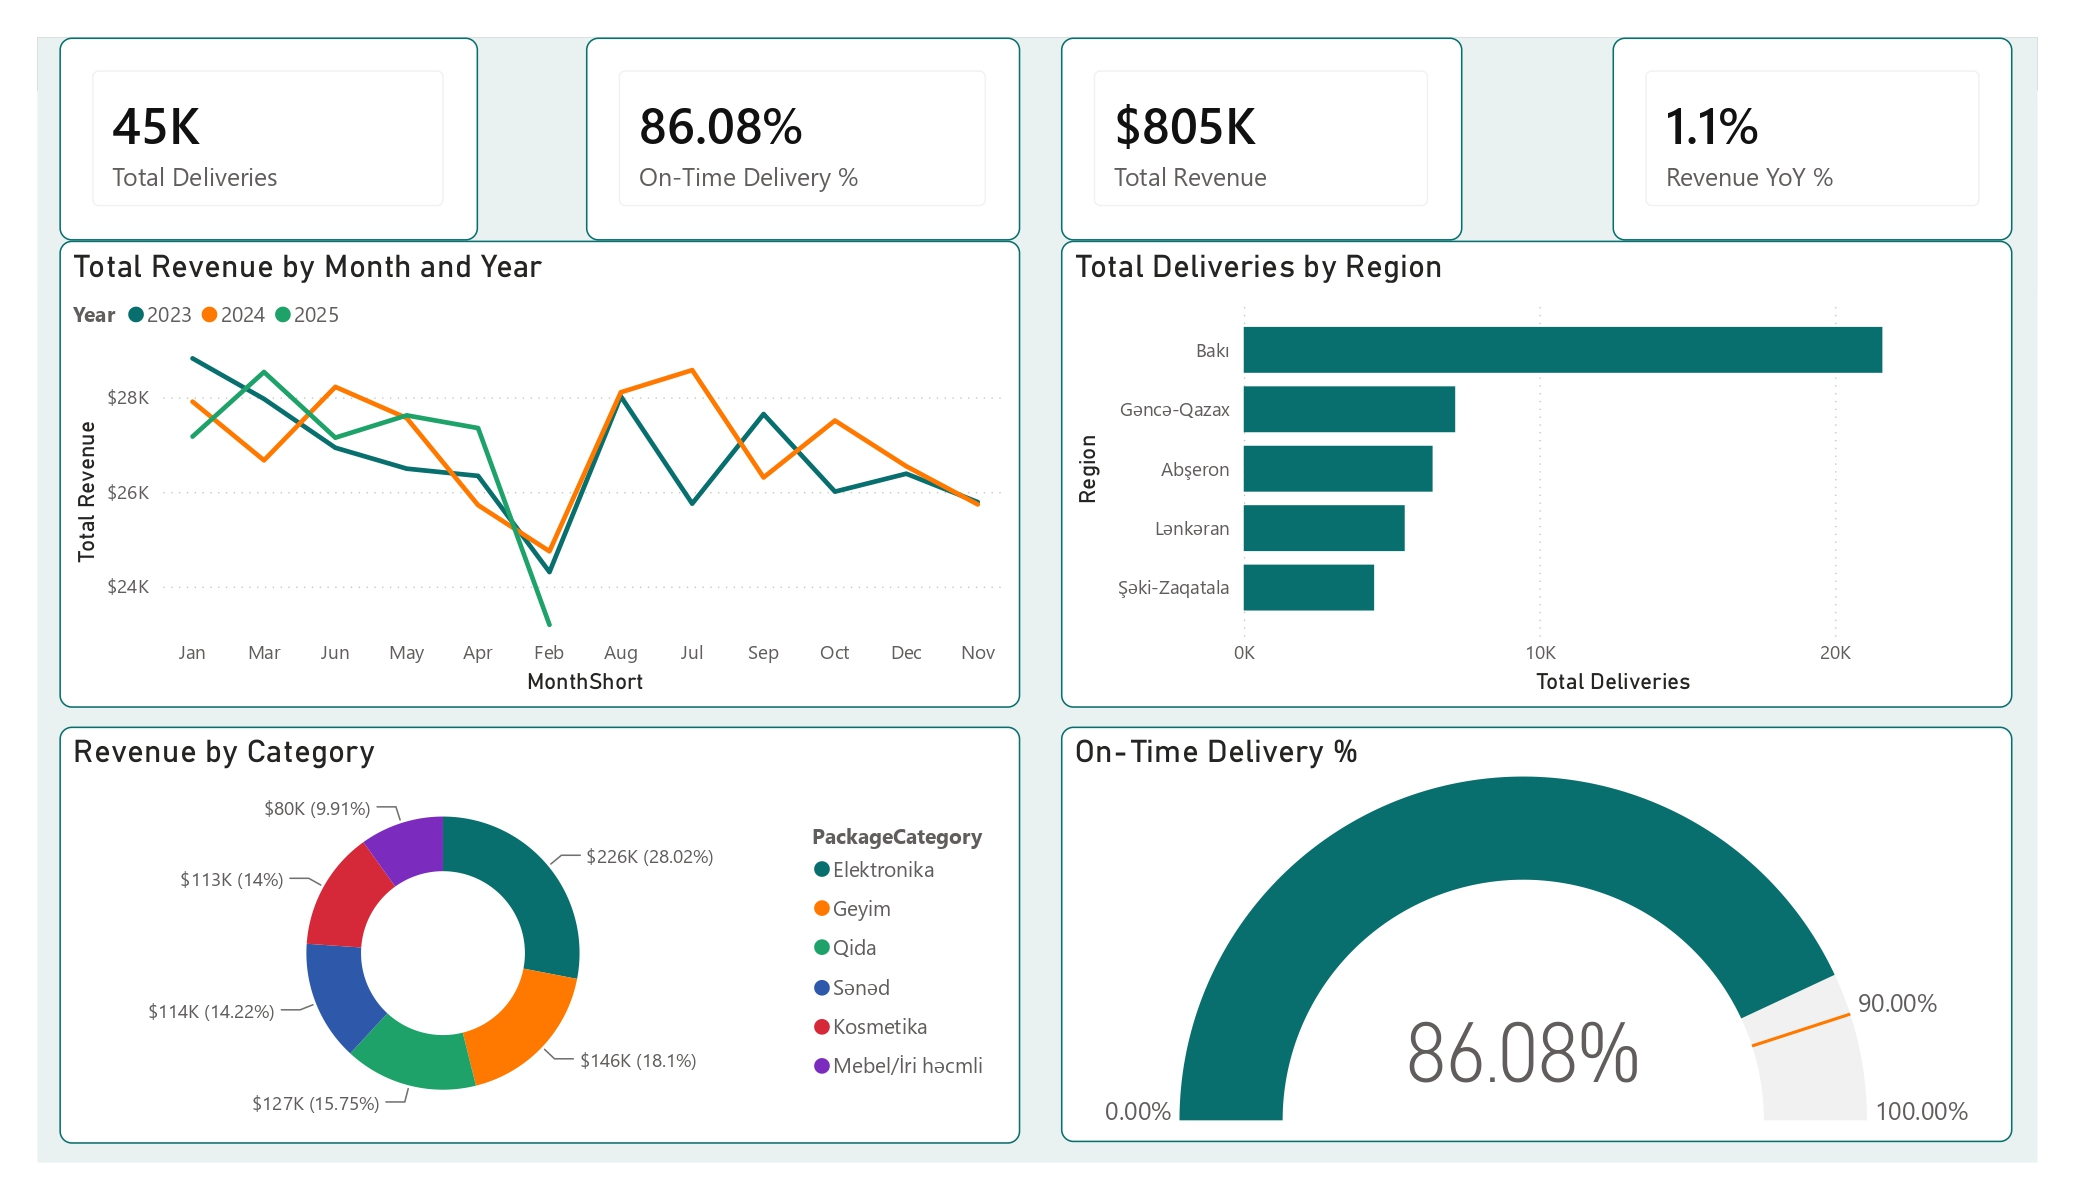

The dashboard page shown, as its layout file describes it:
{"tool":"powerbi","page":{"name":"Executive Overview","canvas":[1280,720],"ordinal":0},"visuals":[{"type":"cardVisual","fields":{"Data":["_Measures.Total Deliveries"]},"box":[14.4,0,267.8,129.6],"z":0},{"type":"cardVisual","fields":{"Data":["_Measures.Total Revenue"]},"box":[655.2,0,256.3,129.6],"z":1000},{"type":"cardVisual","fields":{"Data":["_Measures.Revenue Trailing 12M YoY %"]},"box":[1008,0,256.3,129.6],"z":2000},{"type":"cardVisual","fields":{"Data":["_Measures.On-Time Delivery %"]},"box":[351.4,0,277.9,129.6],"z":3000},{"type":"lineChart","title":"Total Revenue by Month and Year","fields":{"Category":["dim_date.MonthShort"],"Series":["dim_date.Year"],"Y":["_Measures.Total Revenue"]},"box":[14.4,129.6,614.9,299.5],"z":4000},{"type":"barChart","title":"Total Deliveries by Region","fields":{"Category":["dim_hub.Region"],"Y":["_Measures.Total Deliveries"]},"box":[655.2,129.6,609.1,299.5],"z":5000},{"type":"donutChart","title":"Revenue by Category","fields":{"Category":["fact_deliveries.PackageCategory"],"Y":["_Measures.Total Revenue"]},"box":[14,440.7,614.5,266.9],"z":6000},{"type":"gauge","fields":{"Y":["_Measures.On-Time Delivery %"]},"box":[655.2,440.6,609.1,266.4],"z":7000}]}

Visuals, with their boxes in screenshot pixels (x1, y1, x2, y2):
cardVisual - _Measures.Total Deliveries: [71,38,484,238]
cardVisual - _Measures.Total Revenue: [1059,38,1454,238]
cardVisual - _Measures.Revenue Trailing 12M YoY %: [1603,38,1998,238]
cardVisual - _Measures.On-Time Delivery %: [590,38,1019,238]
"Total Revenue by Month and Year" lineChart: [71,238,1019,700]
"Total Deliveries by Region" barChart: [1059,238,1998,700]
"Revenue by Category" donutChart: [70,717,1018,1129]
gauge - _Measures.On-Time Delivery %: [1059,717,1998,1128]
